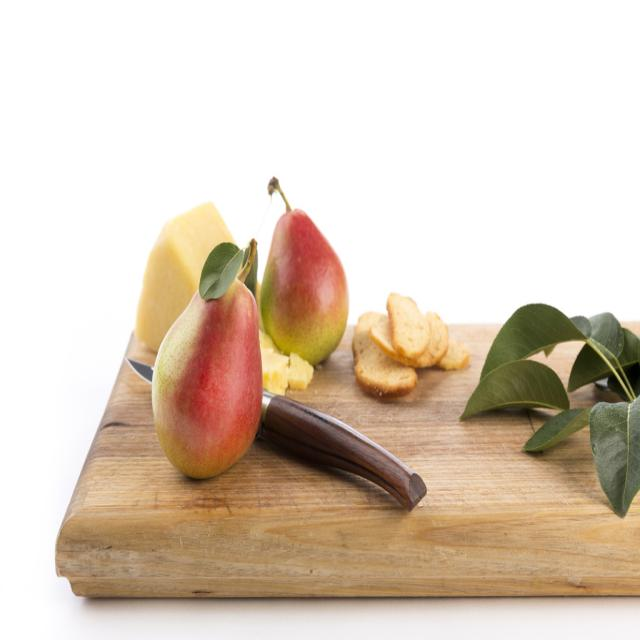pear: (150, 237, 262, 481), (257, 175, 349, 365)
